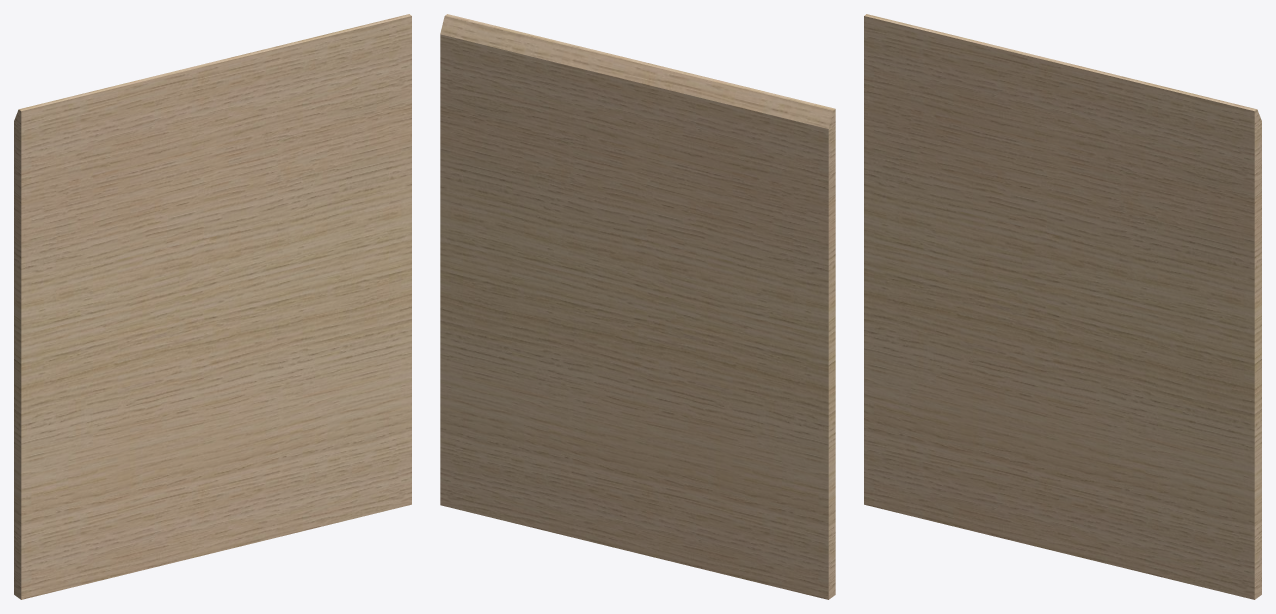
Rendered from dor_OB1_dor.glb.
3 views of the same model, side by side, from view 1: azimuth 30°, elevation 25°; view 2: azimuth 150°, elevation 25°; view 3: azimuth 330°, elevation 25° (orthographic).
Size of the model in its own units: 594 by 710 by 19.
Materials: 1 (1 with a texture image).
